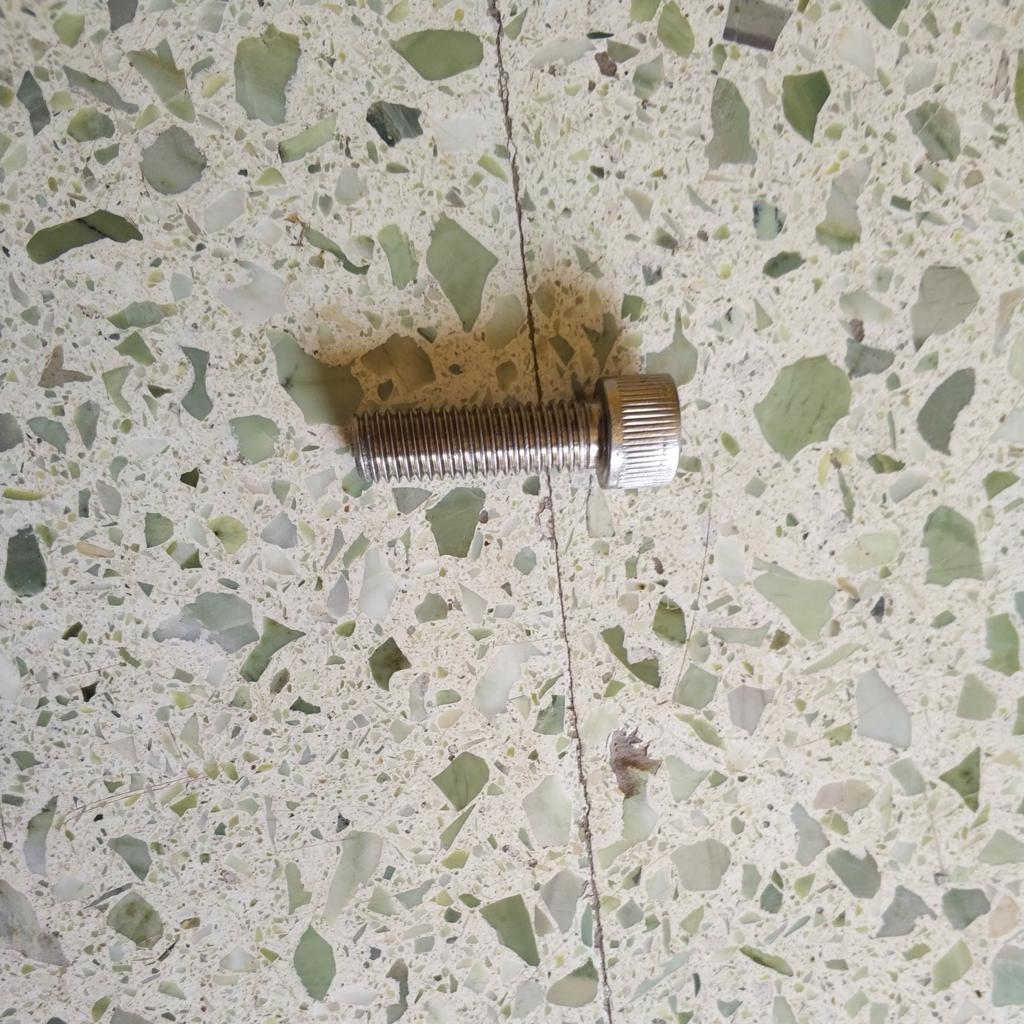screwtype1silver: (344, 368, 688, 505)
